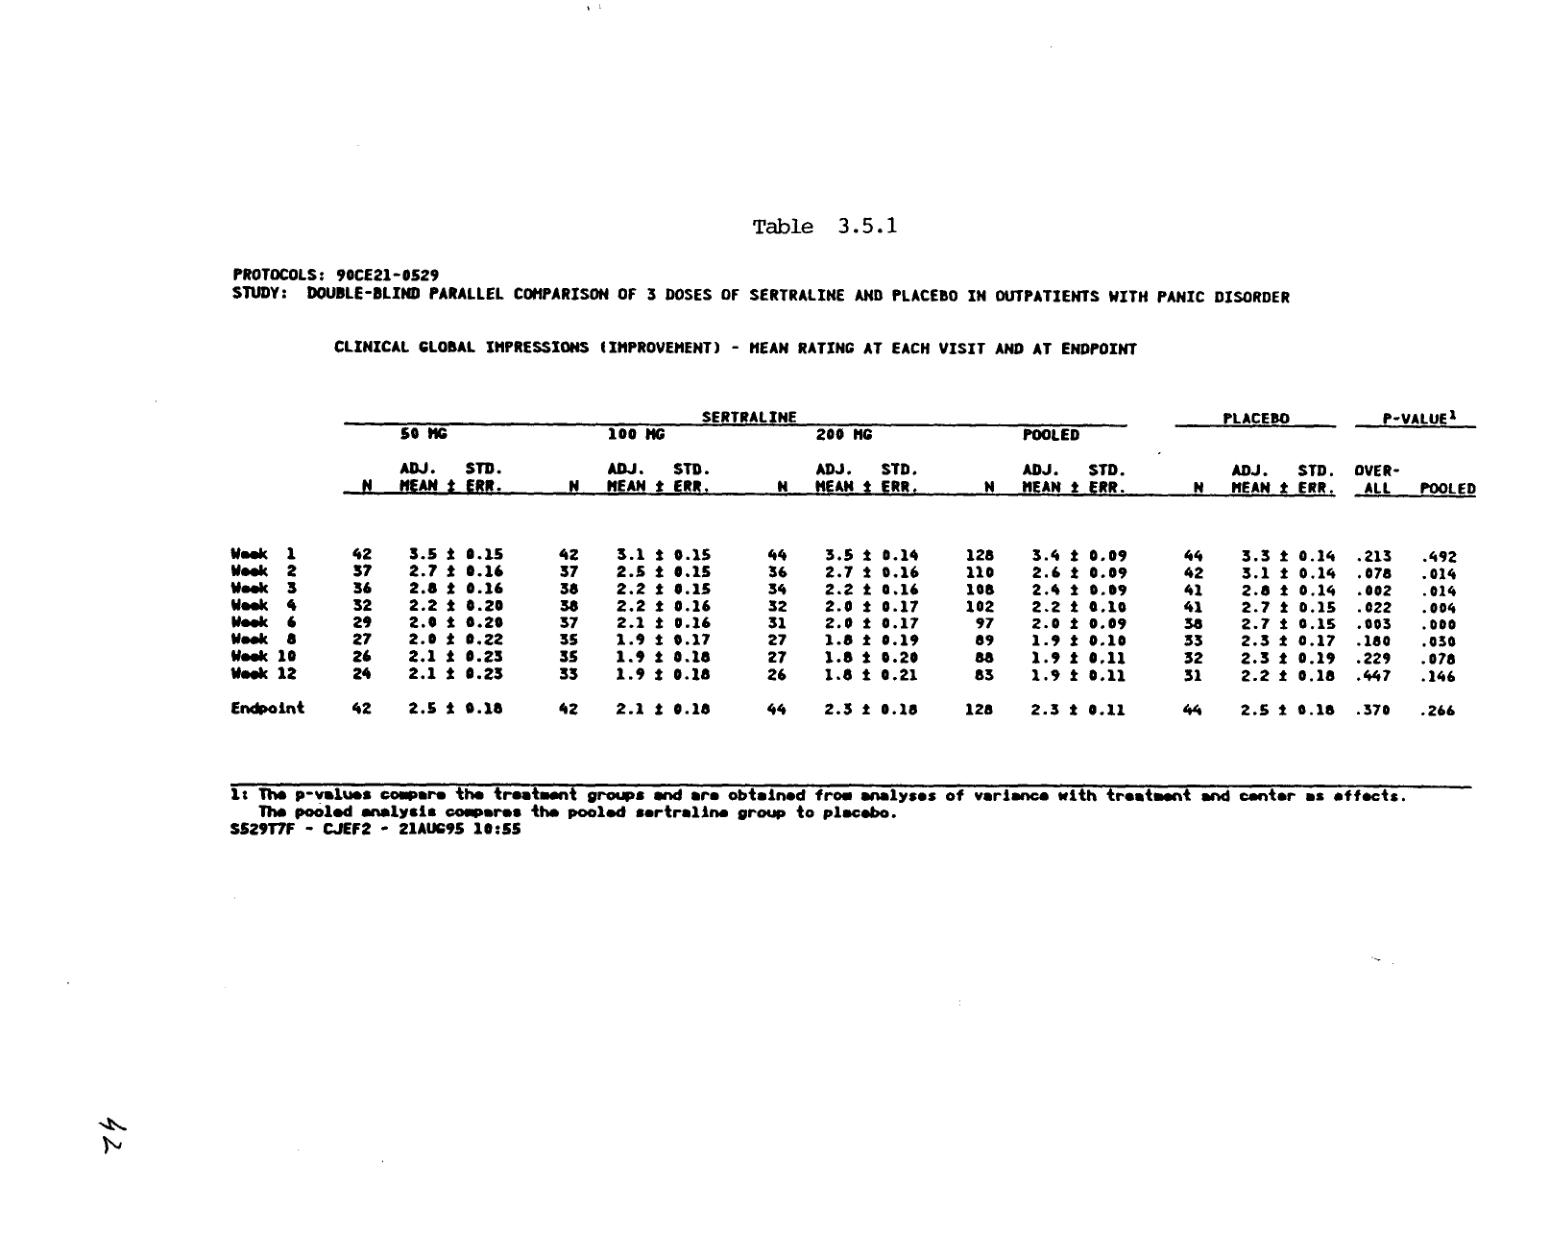partial_lined_merged_cells: (226, 401, 1478, 789)
